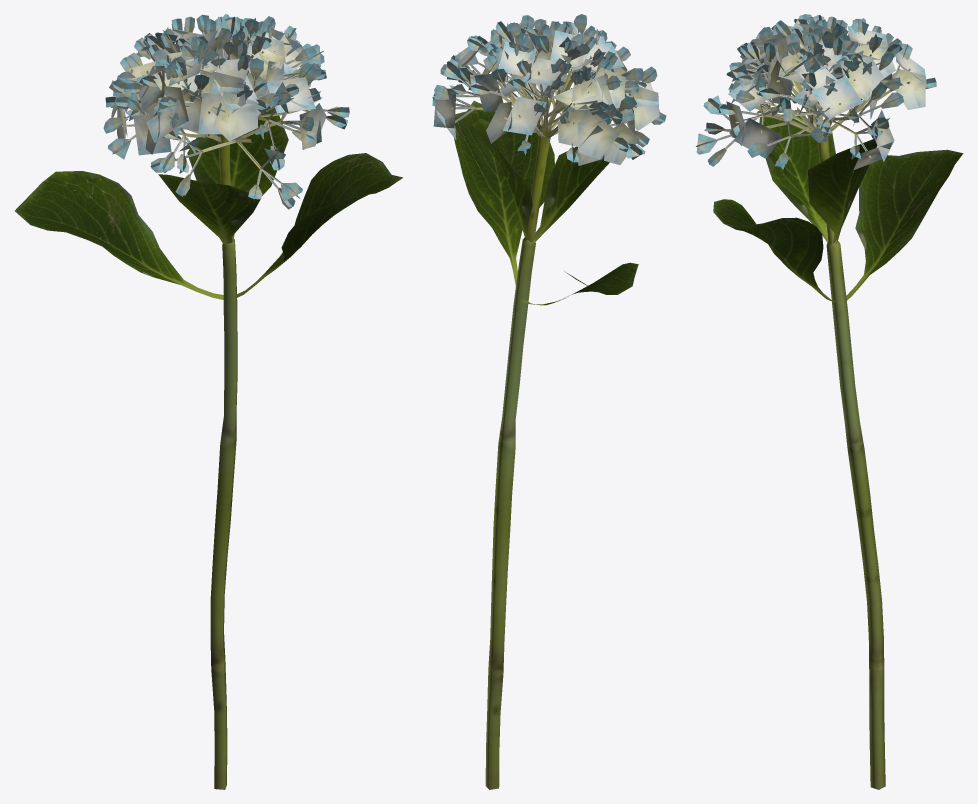
Rendered from Hydrangea_baby_normal_cyan.glb.
3 renders of one model, left to right at view 1: azimuth 30°, elevation 25°; view 2: azimuth 150°, elevation 25°; view 3: azimuth 270°, elevation 25°, orthographic. The views are drawn at different scales.
Parts seen in each view (by area): view 1: BABY; view 2: BABY; view 3: BABY.
Part boxes in pixels (x1=…): BABY: x1=15, y1=14, x2=402, y2=789; BABY: x1=432, y1=14, x2=666, y2=789; BABY: x1=696, y1=14, x2=963, y2=789.
Size of the model in its own units: 0.7928 by 2.22 by 0.7195.
Materials: 1 (1 with a texture image).
